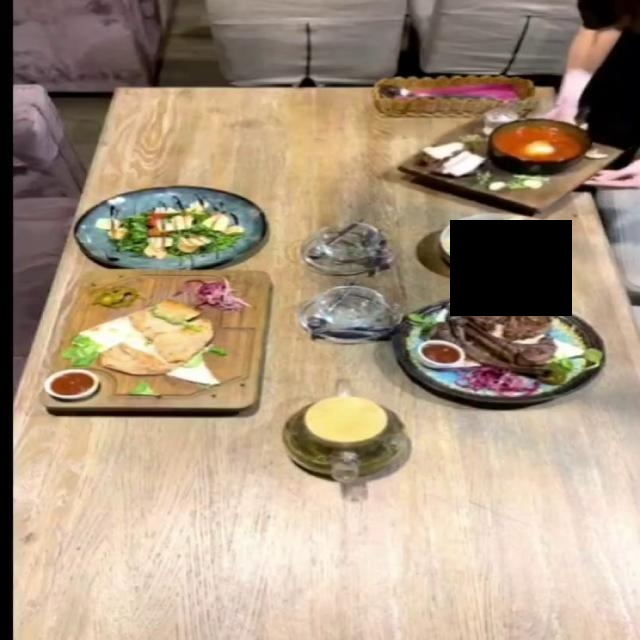meat: (390, 294, 606, 404)
salad: (71, 184, 263, 267), (284, 394, 414, 480)
soup: (41, 267, 275, 413)
tea: (391, 110, 621, 215)
